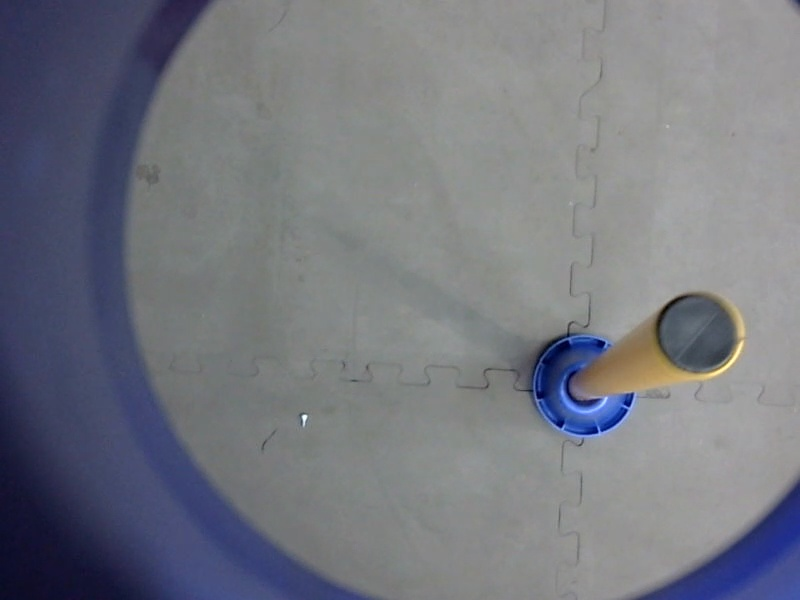tip: (649, 285, 750, 386)
